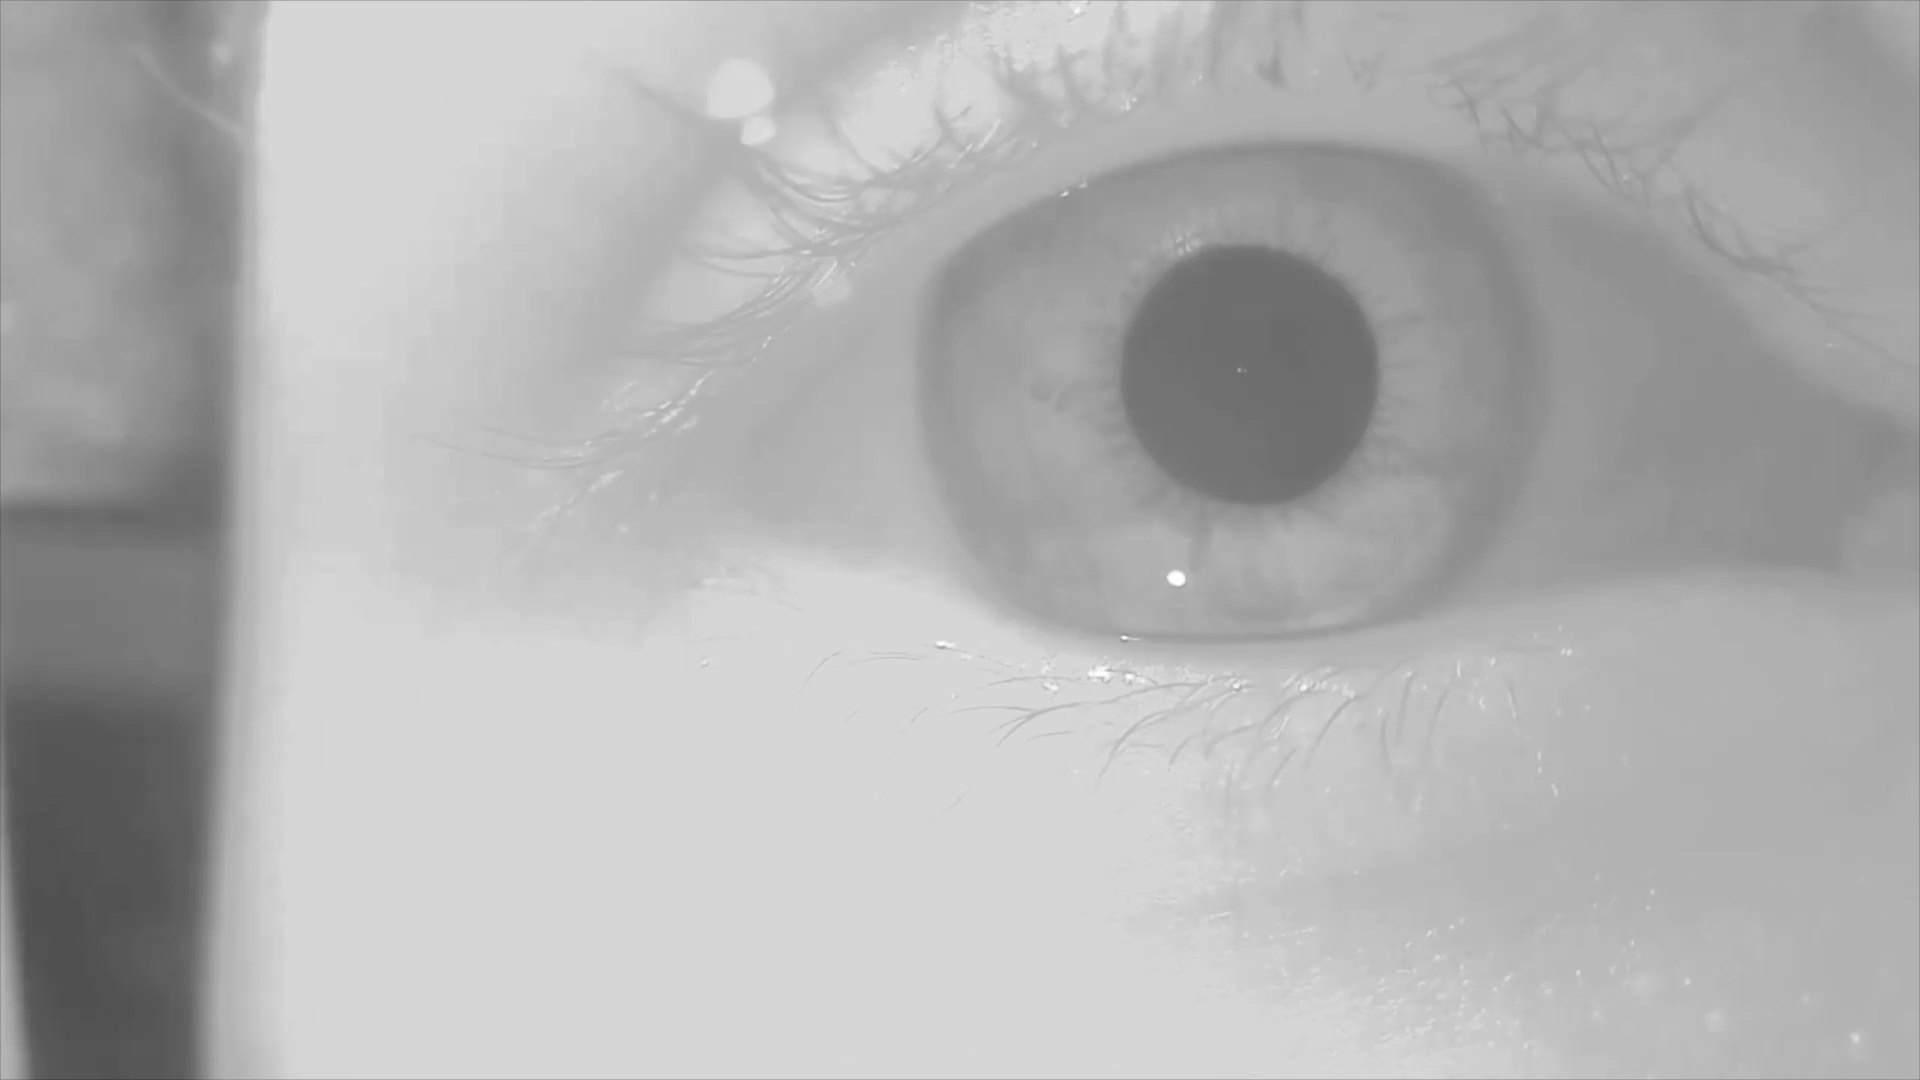pupil: (1121, 250, 1383, 513)
